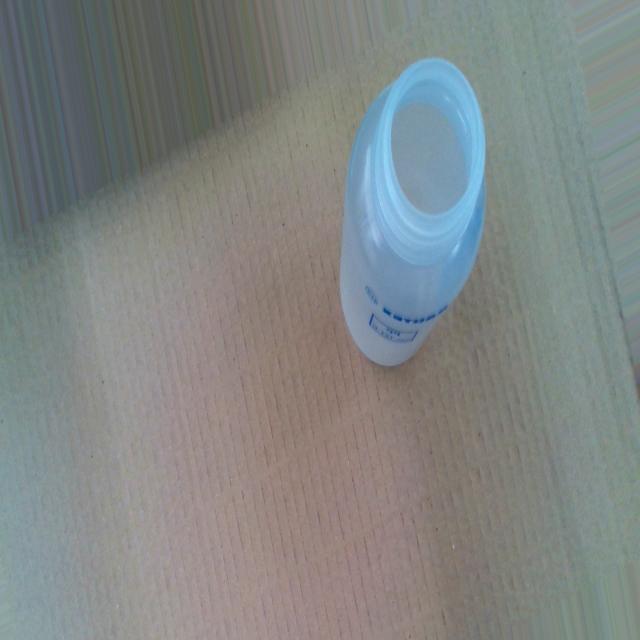bottle: (336, 53, 488, 371)
